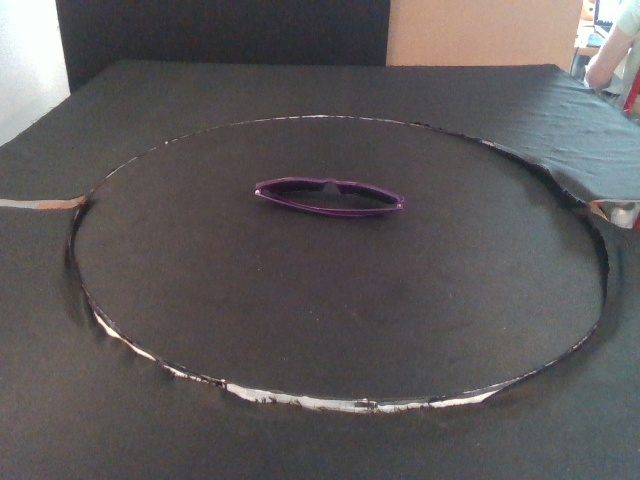glasses: (253, 173, 406, 220)
